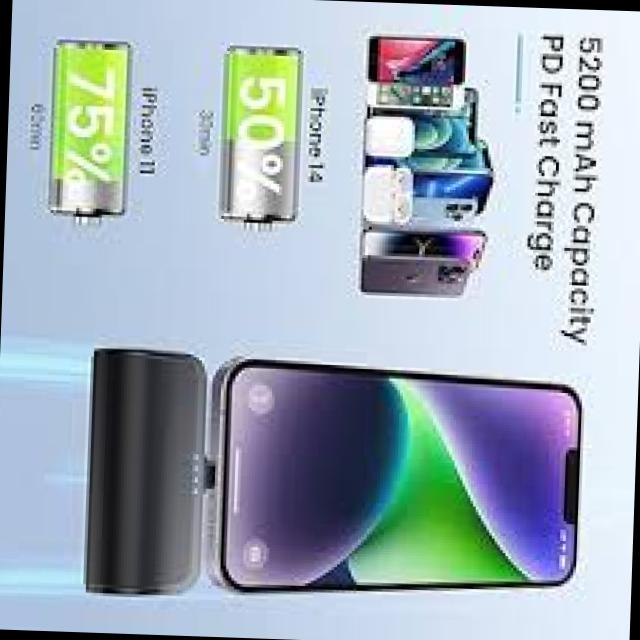power_bank: (76, 346, 223, 602)
